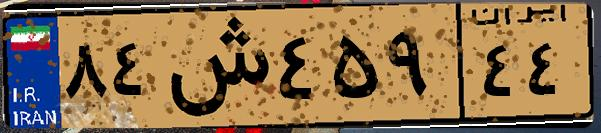4: (270, 28, 330, 110), (475, 38, 525, 113), (525, 38, 570, 115), (110, 28, 158, 98)
5: (330, 28, 385, 110)
8: (57, 26, 110, 100)
9: (385, 28, 445, 110)
ش: (158, 12, 270, 120)
